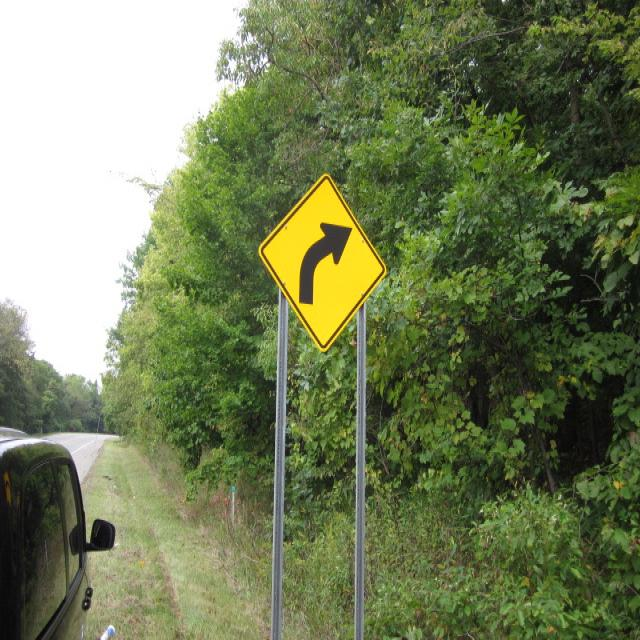warning: (258, 168, 385, 347)
